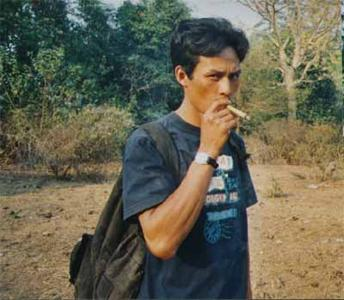person: (121, 17, 259, 300)
